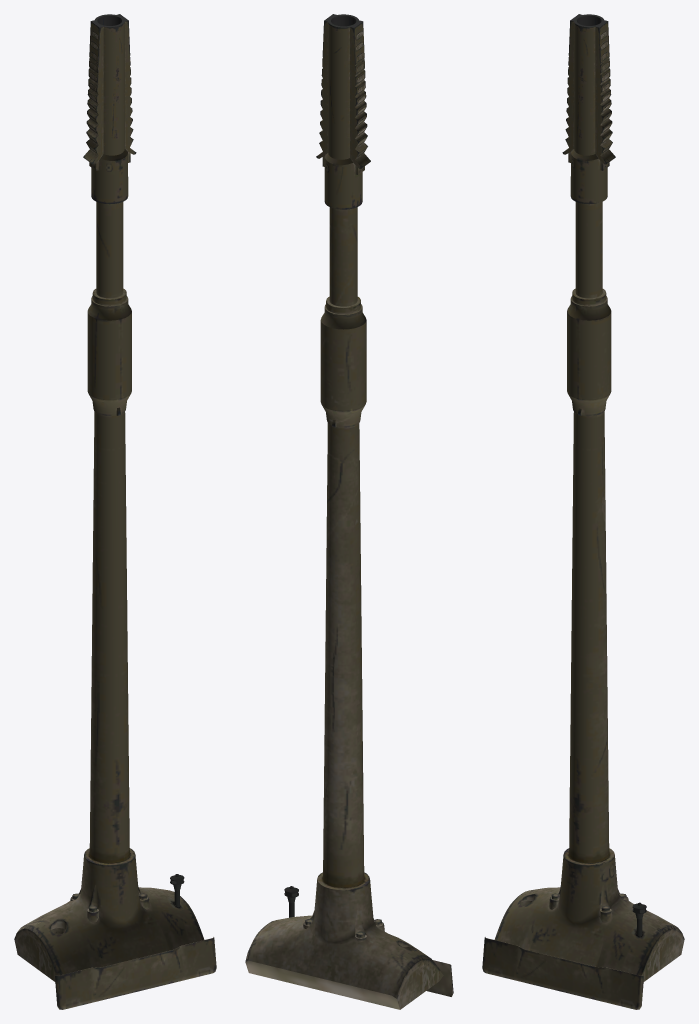
The model's file is Gun_01.glb.
The picture shows the model from 3 angles, left to right: view 1: azimuth 30°, elevation 25°; view 2: azimuth 150°, elevation 25°; view 3: azimuth 330°, elevation 25°; orthographic projection. The views are drawn at different scales.
Visible parts, largest first — view 1: set_0_group_0; view 2: set_0_group_0; view 3: set_0_group_0.
Part boxes in pixels (box(x1,y1,x2,y2)): set_0_group_0: box(14, 14, 216, 1009); set_0_group_0: box(245, 14, 453, 1009); set_0_group_0: box(482, 14, 684, 1009).
Size of the model in its own units: 1.08 by 6.17 by 0.6119.
1 material, 1 textured.
